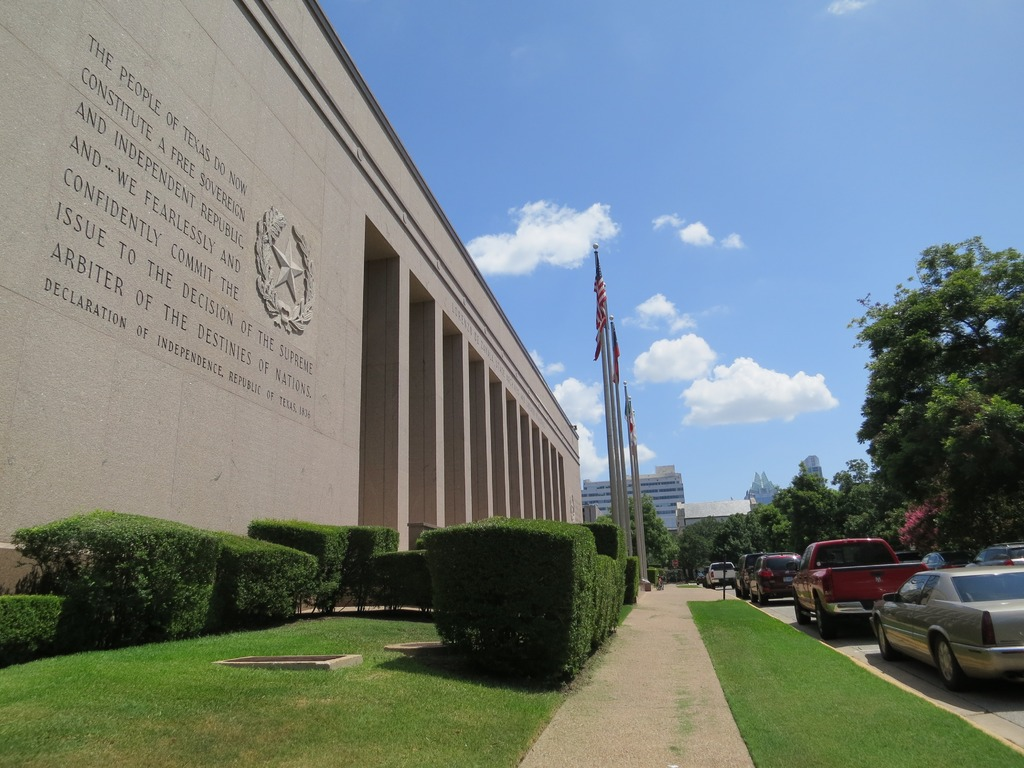Car: (869, 566, 1023, 696), (734, 546, 810, 606), (968, 541, 1023, 568), (695, 556, 741, 586)
